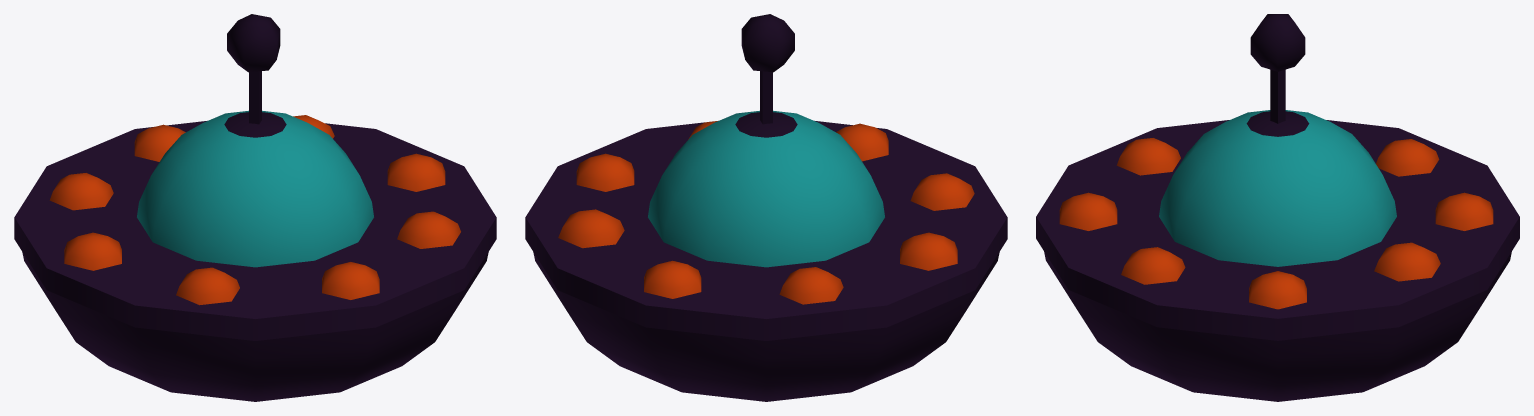
Rendered from Hat_UFO1.fbx.
The picture shows the model from 3 angles, left to right: view 1: azimuth 30°, elevation 25°; view 2: azimuth 150°, elevation 25°; view 3: azimuth 270°, elevation 25°; orthographic projection.
Visible parts, largest first — view 1: UFOHat; view 2: UFOHat; view 3: UFOHat.
Part boxes in pixels (x1,y1,x2,y2): UFOHat: [14, 14, 496, 401]; UFOHat: [525, 14, 1007, 401]; UFOHat: [1036, 14, 1519, 401].
Bounding box in the file's own units: 16 × 11.62 × 16.
